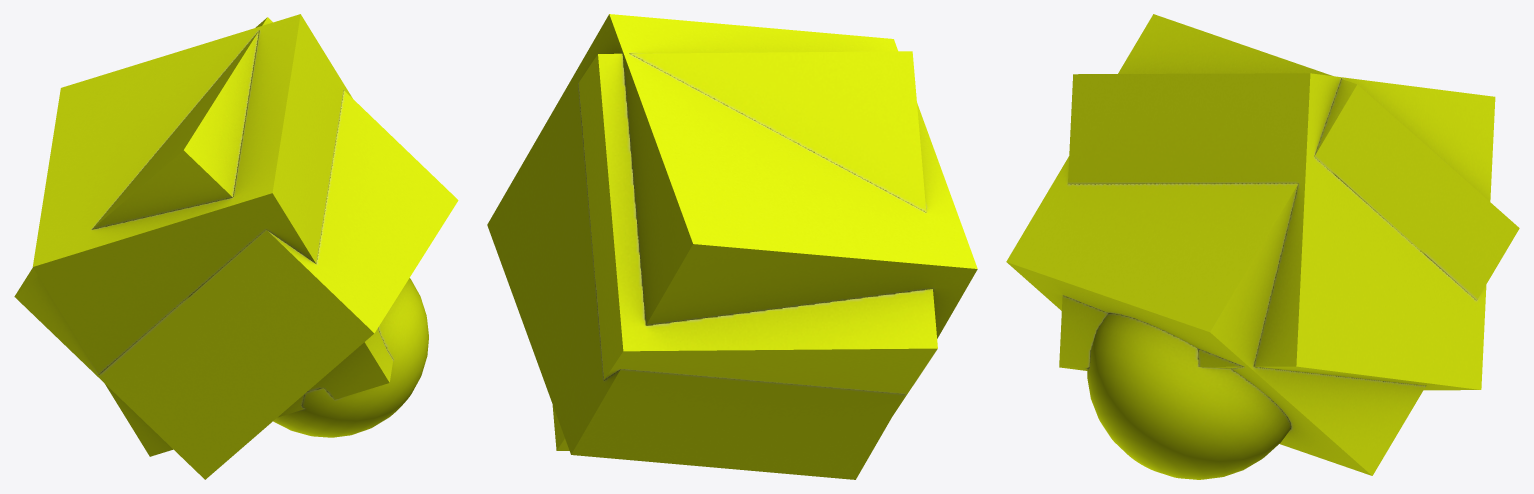
Rendered from objetoEjemplo.glb.
3 renders of one model, left to right at view 1: azimuth 30°, elevation 25°; view 2: azimuth 150°, elevation 25°; view 3: azimuth 270°, elevation 25°, orthographic. The views are drawn at different scales.
Parts seen in each view (by area): view 1: Box002; view 2: Box002; view 3: Box002.
Boxes of the visible parts, x1,y1,x2,y2 form: Box002: (14, 14, 458, 479); Box002: (487, 14, 977, 479); Box002: (1006, 14, 1519, 479).
Size of the model in its own units: 2.66 by 2.39 by 2.66.
Materials: 1 (1 with a texture image).
